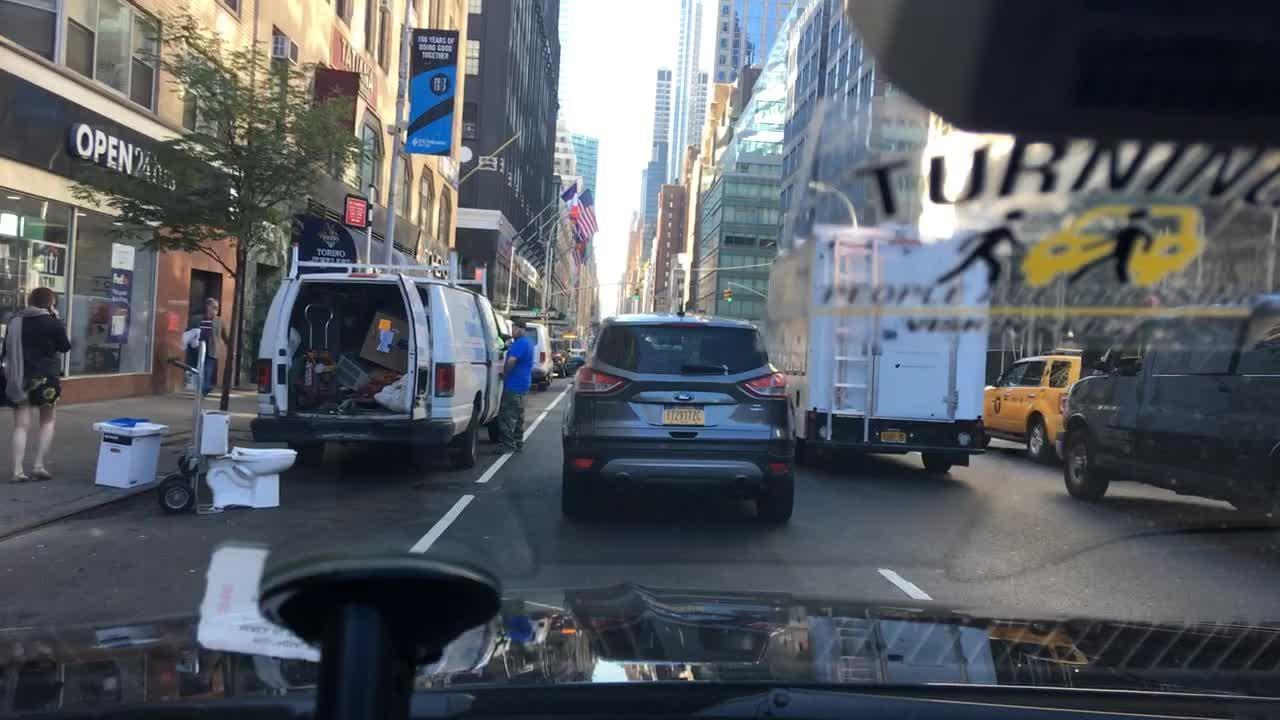ford: (671, 387, 697, 403)
